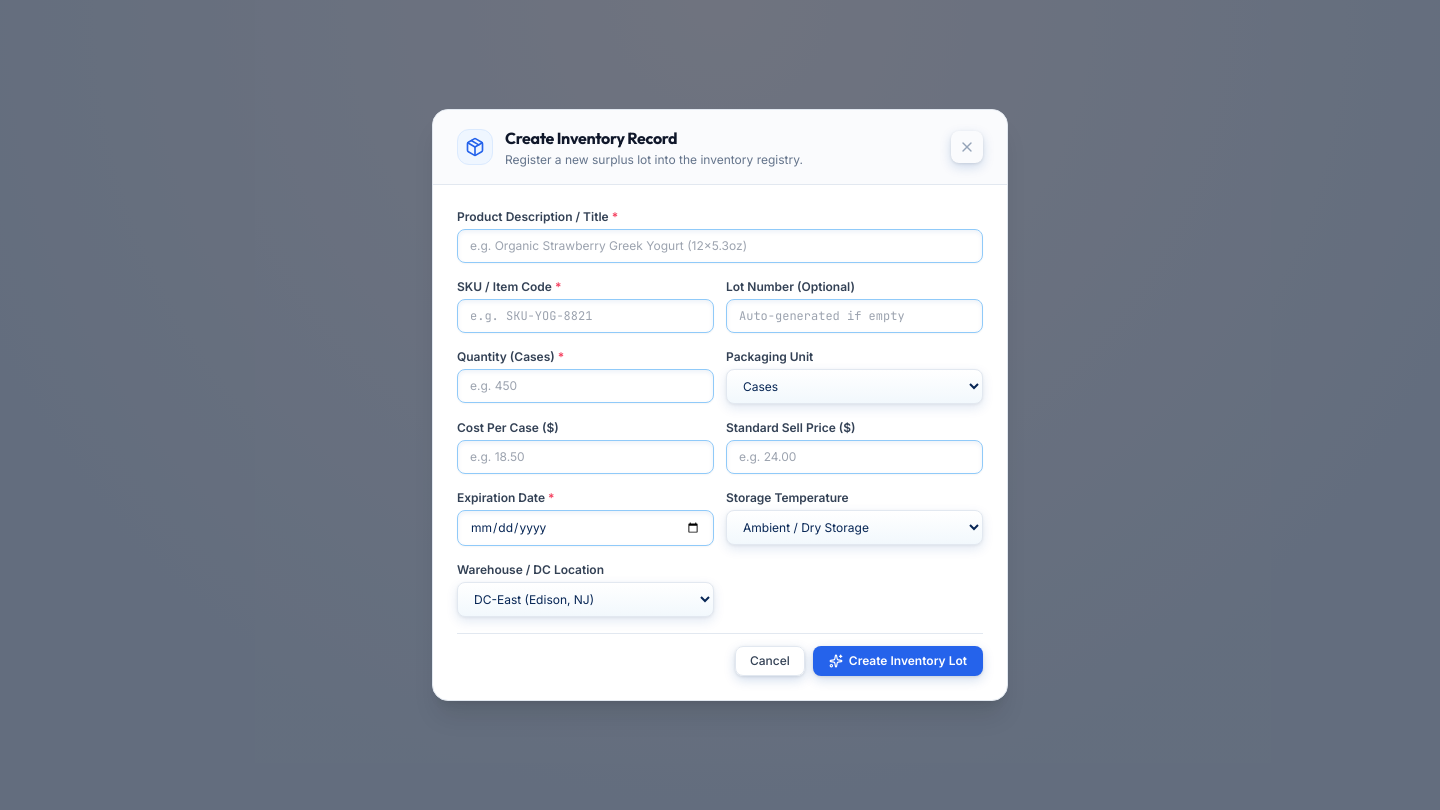
Contextual Record Creation & Streamlined Tab Naming › CreateInventoryModal displays error when required fields are missing
Note: Click submit with empty form
What coordinates should you click on to do the following:
click the button "Create Inventory Lot"
I would click on:
 (898, 661)
Its box is [813,646,983,676].
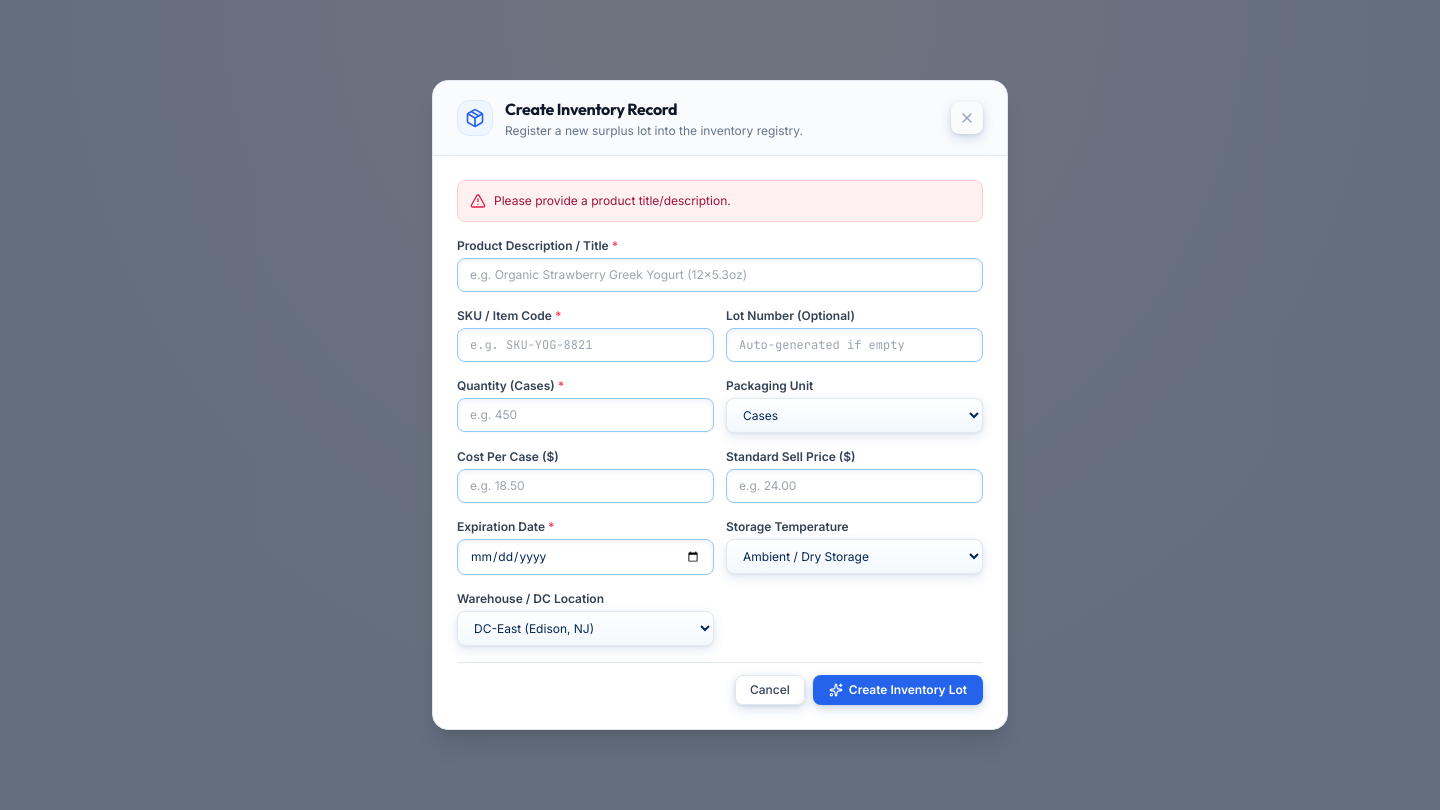
Expected: the text "Please provide a product title/description." is shown, [494,193,731,209]
